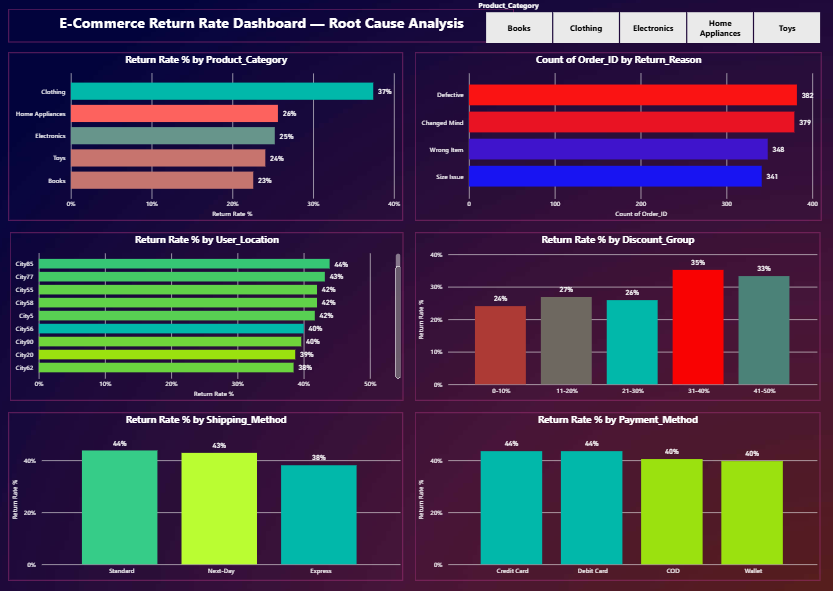

This screenshot's page, from the dashboard's own definition file:
{"tool":"powerbi","page":{"name":"Root Cause Analysis","canvas":[1400,1000],"ordinal":1},"visuals":[{"type":"textbox","box":[23.3,20,841.7,55],"z":0},{"type":"barChart","fields":{"Category":["Orders.Product_Category"],"Y":["Orders.Return Rate %"]},"box":[22.5,92.5,657.5,280],"z":1000},{"type":"barChart","fields":{"Y":["CountNonNull(Orders.Order_ID)"],"Category":["Orders.Return_Reason"]},"box":[700,92.5,677.5,280],"z":2000},{"type":"barChart","fields":{"Y":["Orders.Return Rate %"],"Category":["Orders.User_Location"]},"box":[25,392.5,655,280],"z":3000},{"type":"columnChart","fields":{"Y":["Orders.Return Rate %"],"Category":["Discount_Groups.Discount_Group"]},"box":[700,392.5,675,280],"z":4000},{"type":"columnChart","fields":{"Y":["Orders.Return Rate %"],"Category":["Orders.Shipping_Method"]},"box":[22.5,692.5,657.5,280],"z":5000},{"type":"columnChart","fields":{"Category":["Orders.Payment_Method"],"Y":["Orders.Return Rate %"]},"box":[700,692.5,675,280],"z":6000},{"type":"slicer","fields":{"Values":["Orders.Product_Category"]},"box":[793.3,0,606.7,83.3],"z":7000}]}

Visuals, with their boxes in screenshot pixels (x1, y1, x2, y2), scaled from the page's 1400x1000 canvas onto the 833x591 screenshot:
textbox: x1=14, y1=12, x2=515, y2=44
barChart - Orders.Product_Category x Orders.Return Rate %: x1=13, y1=55, x2=405, y2=220
barChart - CountNonNull(Orders.Order_ID) x Orders.Return_Reason: x1=416, y1=55, x2=820, y2=220
barChart - Orders.Return Rate % x Orders.User_Location: x1=15, y1=232, x2=405, y2=397
columnChart - Orders.Return Rate % x Discount_Groups.Discount_Group: x1=416, y1=232, x2=818, y2=397
columnChart - Orders.Return Rate % x Orders.Shipping_Method: x1=13, y1=409, x2=405, y2=575
columnChart - Orders.Payment_Method x Orders.Return Rate %: x1=416, y1=409, x2=818, y2=575
slicer - Orders.Product_Category: x1=472, y1=0, x2=832, y2=49
